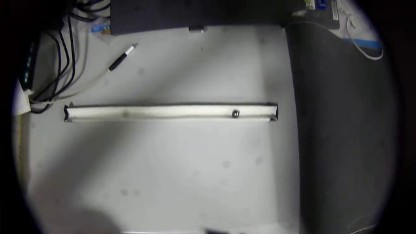gangzhu: (230, 109, 239, 117)
